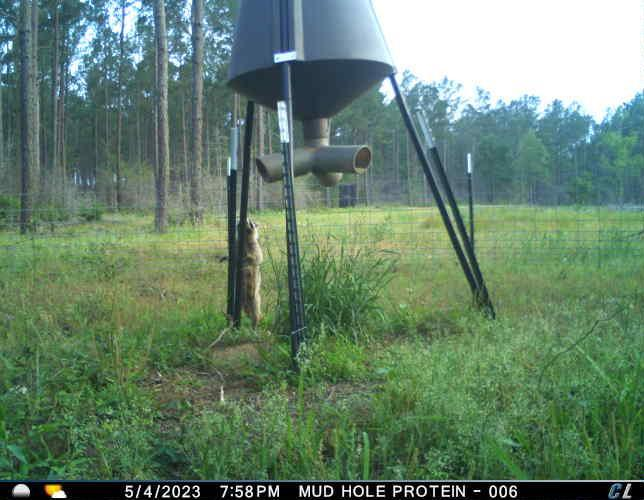Raccoon: (235, 215, 265, 329)
